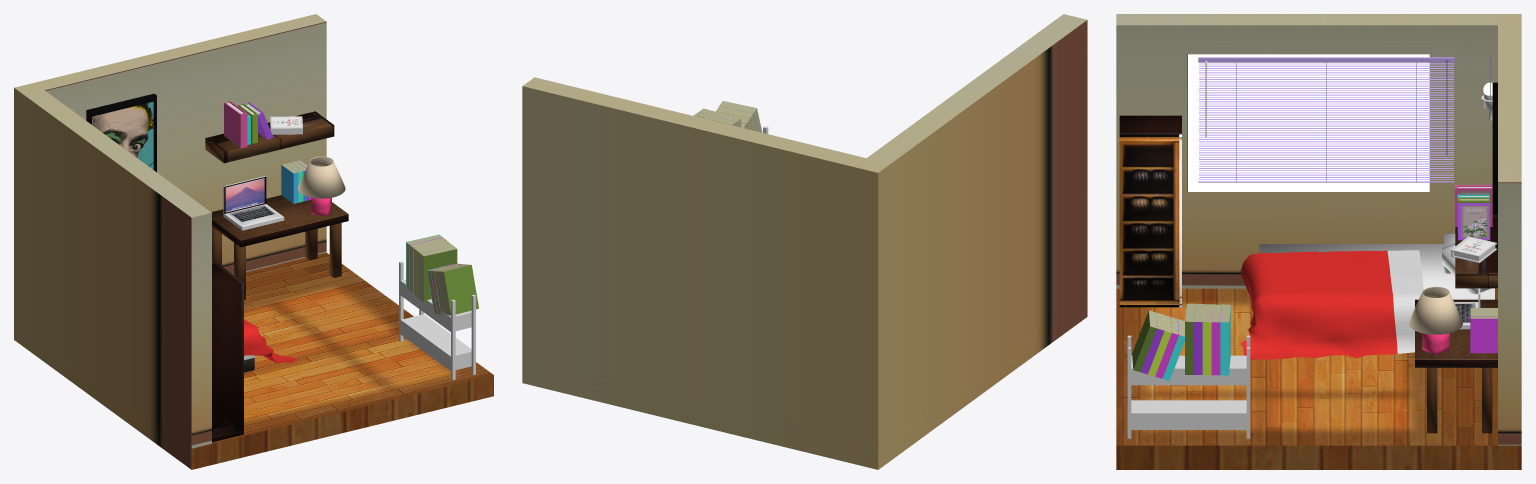
Rendered from librarians_room.glb.
3 renders of one model, left to right at view 1: azimuth 30°, elevation 25°; view 2: azimuth 150°, elevation 25°; view 3: azimuth 270°, elevation 25°, orthographic. The views are drawn at different scales.
Visible parts, largest first — view 1: Room, Cube.005, Table, Shelves1, Cube.007, Cube.001, Cube.004, Lampshade.001, Book0.001, Book0.002, Book, Plane (+2 smaller); view 2: Room; view 3: Room, Venetian_slats, Plane, Cube.005, Shelves1, Table, Cube, Lampshade.001, Cube.001, VenetianFrame, Book.003, Book3 (+17 smaller).
Boxes of the visible parts, bbox=[...] form: Room: bbox=[14, 14, 493, 469]; Cube.005: bbox=[212, 263, 243, 442]; Table: bbox=[211, 195, 348, 299]; Shelves1: bbox=[399, 261, 475, 379]; Cube.007: bbox=[86, 93, 156, 172]; Cube.001: bbox=[205, 111, 334, 163]; Cube.004: bbox=[223, 176, 284, 230]; Lampshade.001: bbox=[298, 156, 345, 198]; Book0.001: bbox=[440, 264, 478, 315]; Book0.002: bbox=[420, 246, 457, 302]; Book: bbox=[224, 101, 247, 148]; Plane: bbox=[244, 319, 297, 363]; Room: bbox=[522, 14, 1087, 469]; Room: bbox=[1116, 14, 1521, 469]; Venetian_slats: bbox=[1199, 63, 1453, 179]; Plane: bbox=[1240, 250, 1423, 359]; Cube.005: bbox=[1119, 115, 1181, 307]; Shelves1: bbox=[1127, 335, 1250, 438]; Table: bbox=[1415, 299, 1497, 433]; Cube: bbox=[1259, 244, 1494, 299]; Lampshade.001: bbox=[1408, 286, 1462, 334]; Cube.001: bbox=[1455, 214, 1497, 288]; VenetianFrame: bbox=[1198, 57, 1454, 62]; Book.003: bbox=[1458, 203, 1490, 240]; Book3: bbox=[1470, 316, 1497, 353].
Size of the model in its own units: 453 by 362 by 462.
54 materials, 11 textured.
